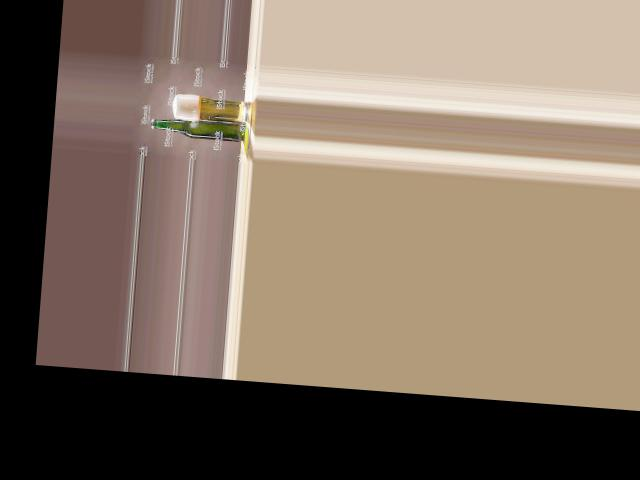beer: (150, 113, 246, 142)
